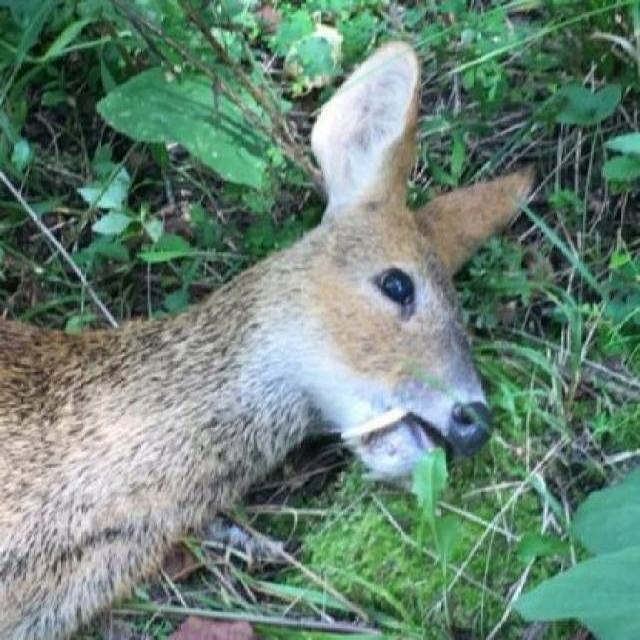deer: (0, 36, 538, 639)
